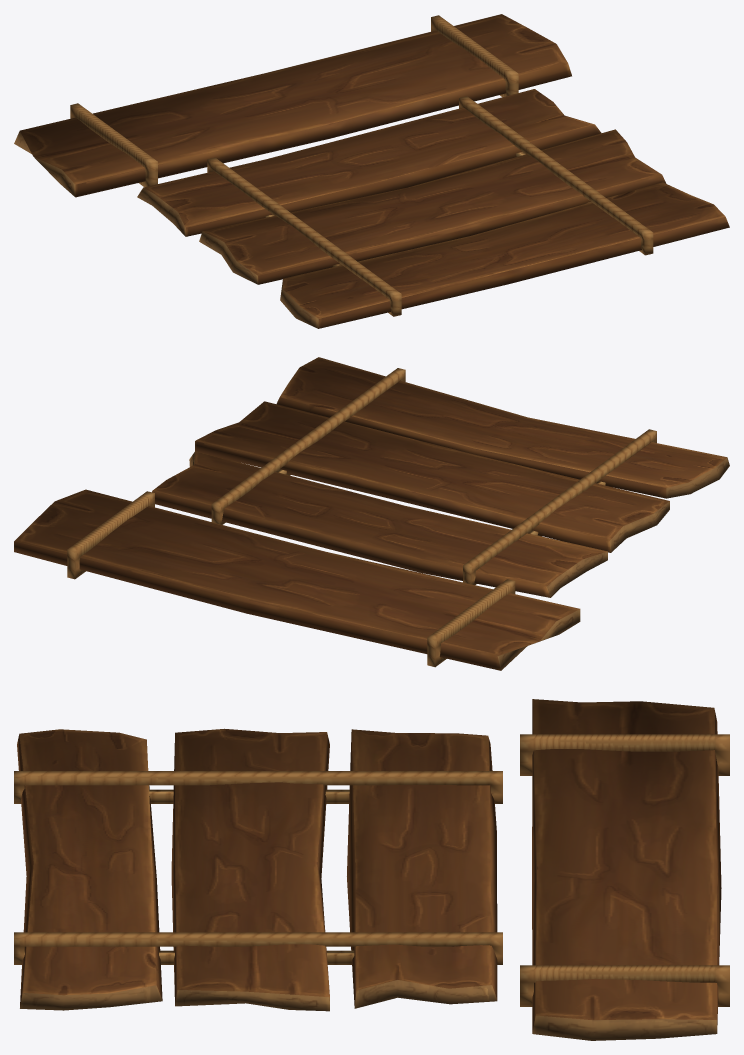
The model's file is MainMenu.fbx.
3 renders of one model, top to bottom at view 1: azimuth 30°, elevation 25°; view 2: azimuth 150°, elevation 25°; view 3: azimuth 270°, elevation 25°, orthographic. The views are drawn at different scales.
Visible parts, largest first — view 1: Cube; view 2: Cube; view 3: Cube.
Boxes of the visible parts, left/top/right/bottom form: Cube: left=14, top=14, right=729, bottom=328; Cube: left=14, top=357, right=729, bottom=670; Cube: left=14, top=699, right=729, bottom=1040.
Size of the model in its own units: 9.94 by 0.5203 by 9.24.
